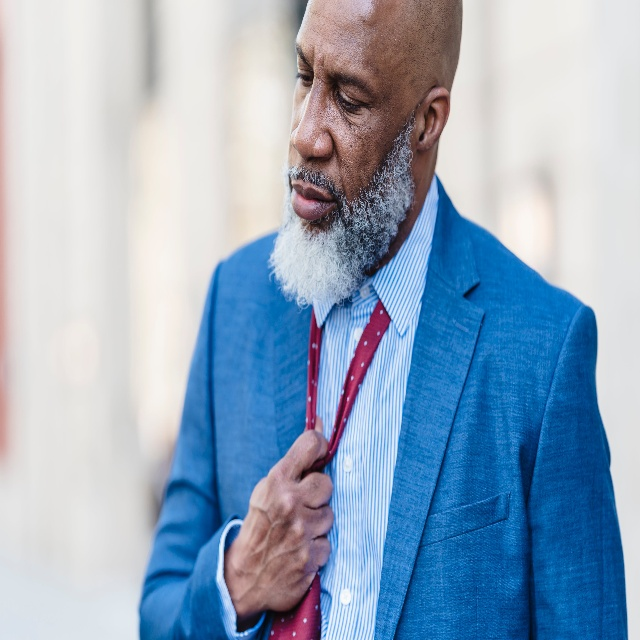Sin_guantes: (235, 430, 335, 603)
